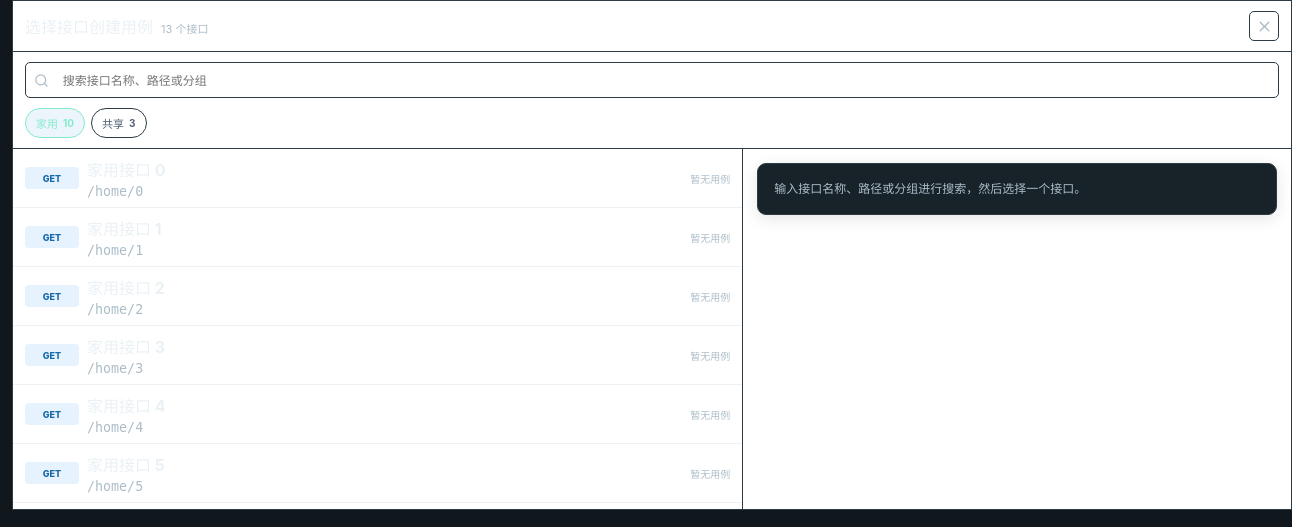
Test: CaseEndpointPicker › guides a large interface catalog through business domains
Expected: the button with test id "case-endpoint-domain-家用" reads "家用 10", [25,108,85,138]
Expected: the button with test id "case-endpoint-home-0" is shown, [13,149,742,208]
Click the button with test id "case-endpoint-domain-共享".
click(119, 123)  # box [91,108,147,138]
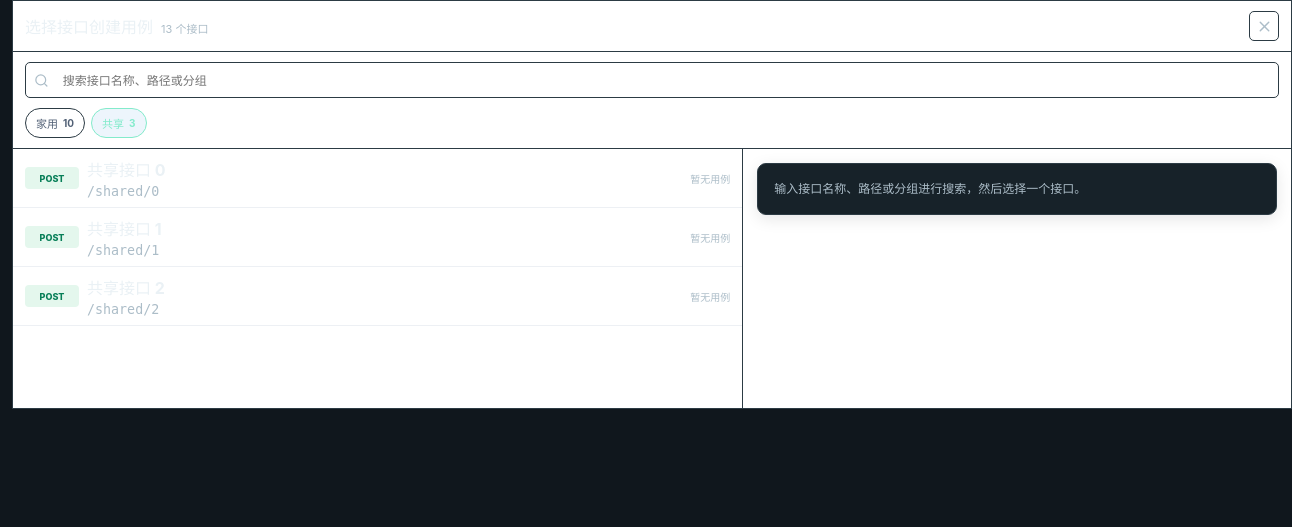
Type "家用接口 9" into the field with test id "case-endpoint-search" showing "搜索接口名称、路径或分组".
click(662, 80); type("家用接口 9")  # box [55,63,1270,97]
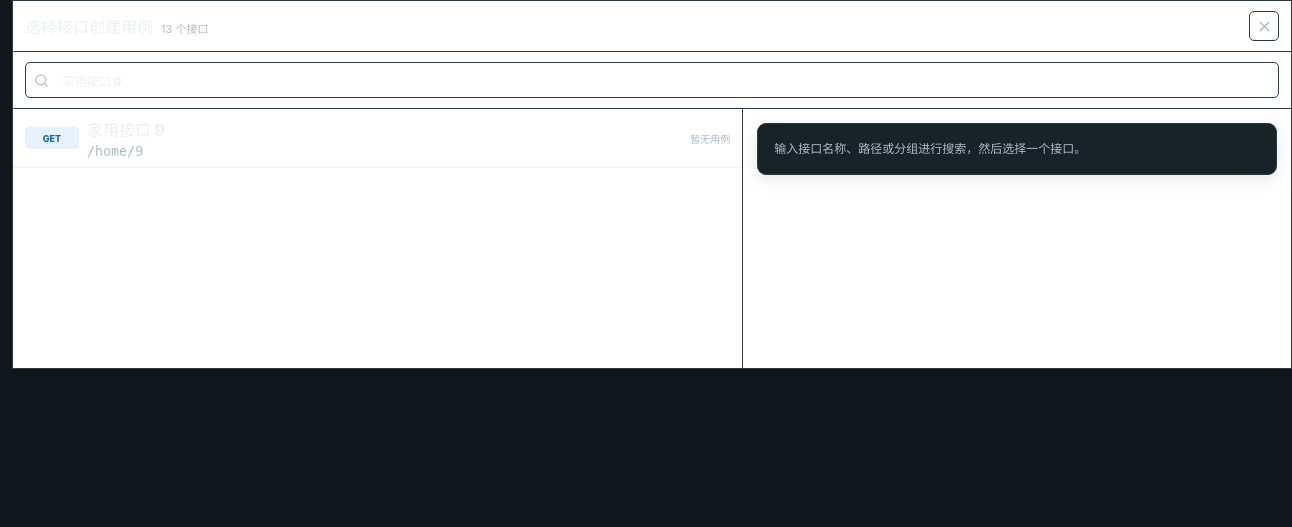
Now the button with test id "case-endpoint-home-9" is shown, box [13,109,742,168]
